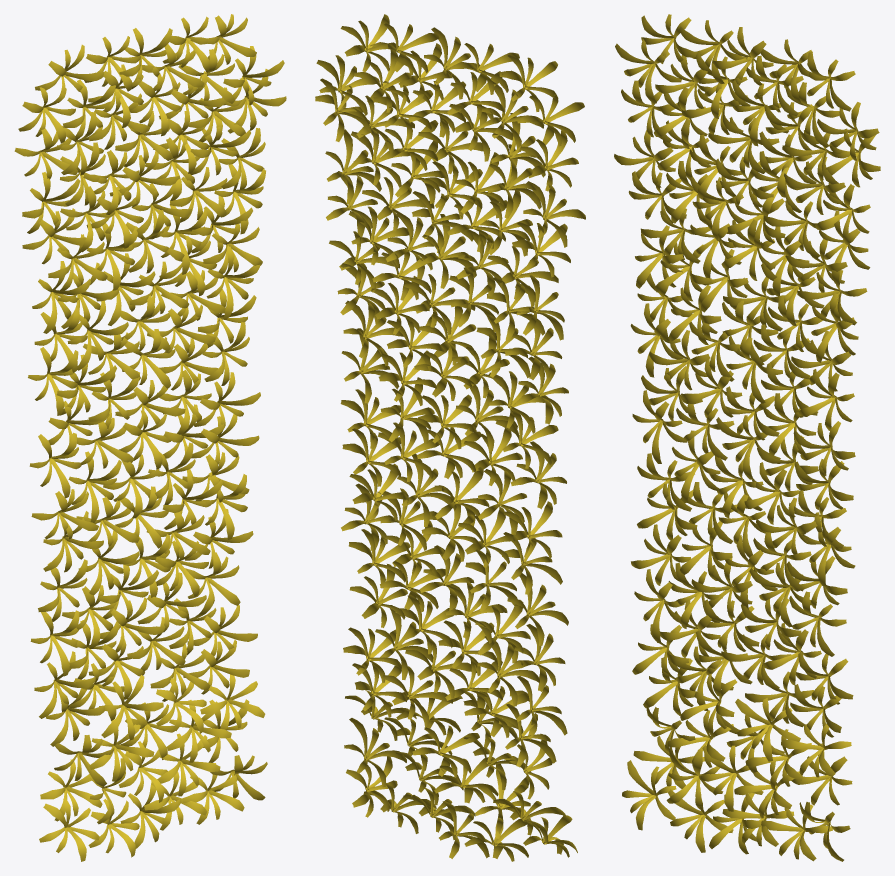
The model's file is Vine.fbx.
The picture shows the model from 3 angles, left to right: view 1: azimuth 30°, elevation 25°; view 2: azimuth 150°, elevation 25°; view 3: azimuth 330°, elevation 25°; orthographic projection. The views are drawn at different scales.
Visible parts, largest first — view 1: Vine2; view 2: Vine2; view 3: Vine2.
Boxes of the visible parts, <box> form: Vine2: <box>14,14,286,861</box>; Vine2: <box>315,14,585,861</box>; Vine2: <box>614,14,880,861</box>.
Bounding box in the file's own units: 1.53 × 4.47 × 0.2822.
